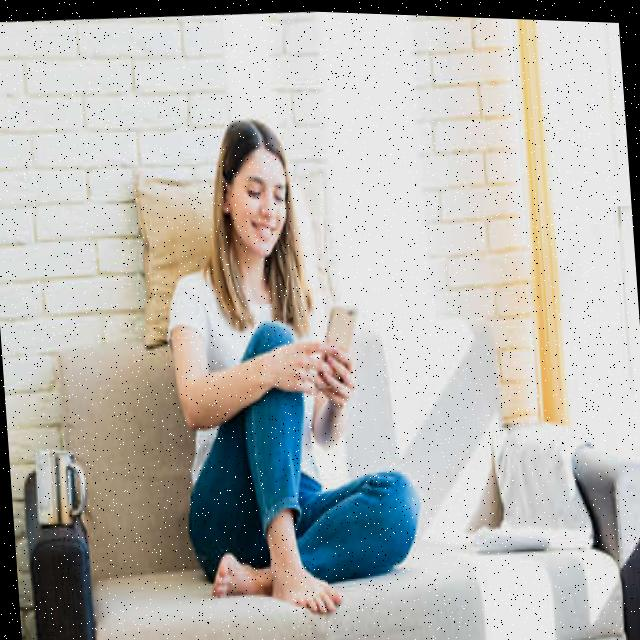smartphone-person: (148, 91, 432, 632)
